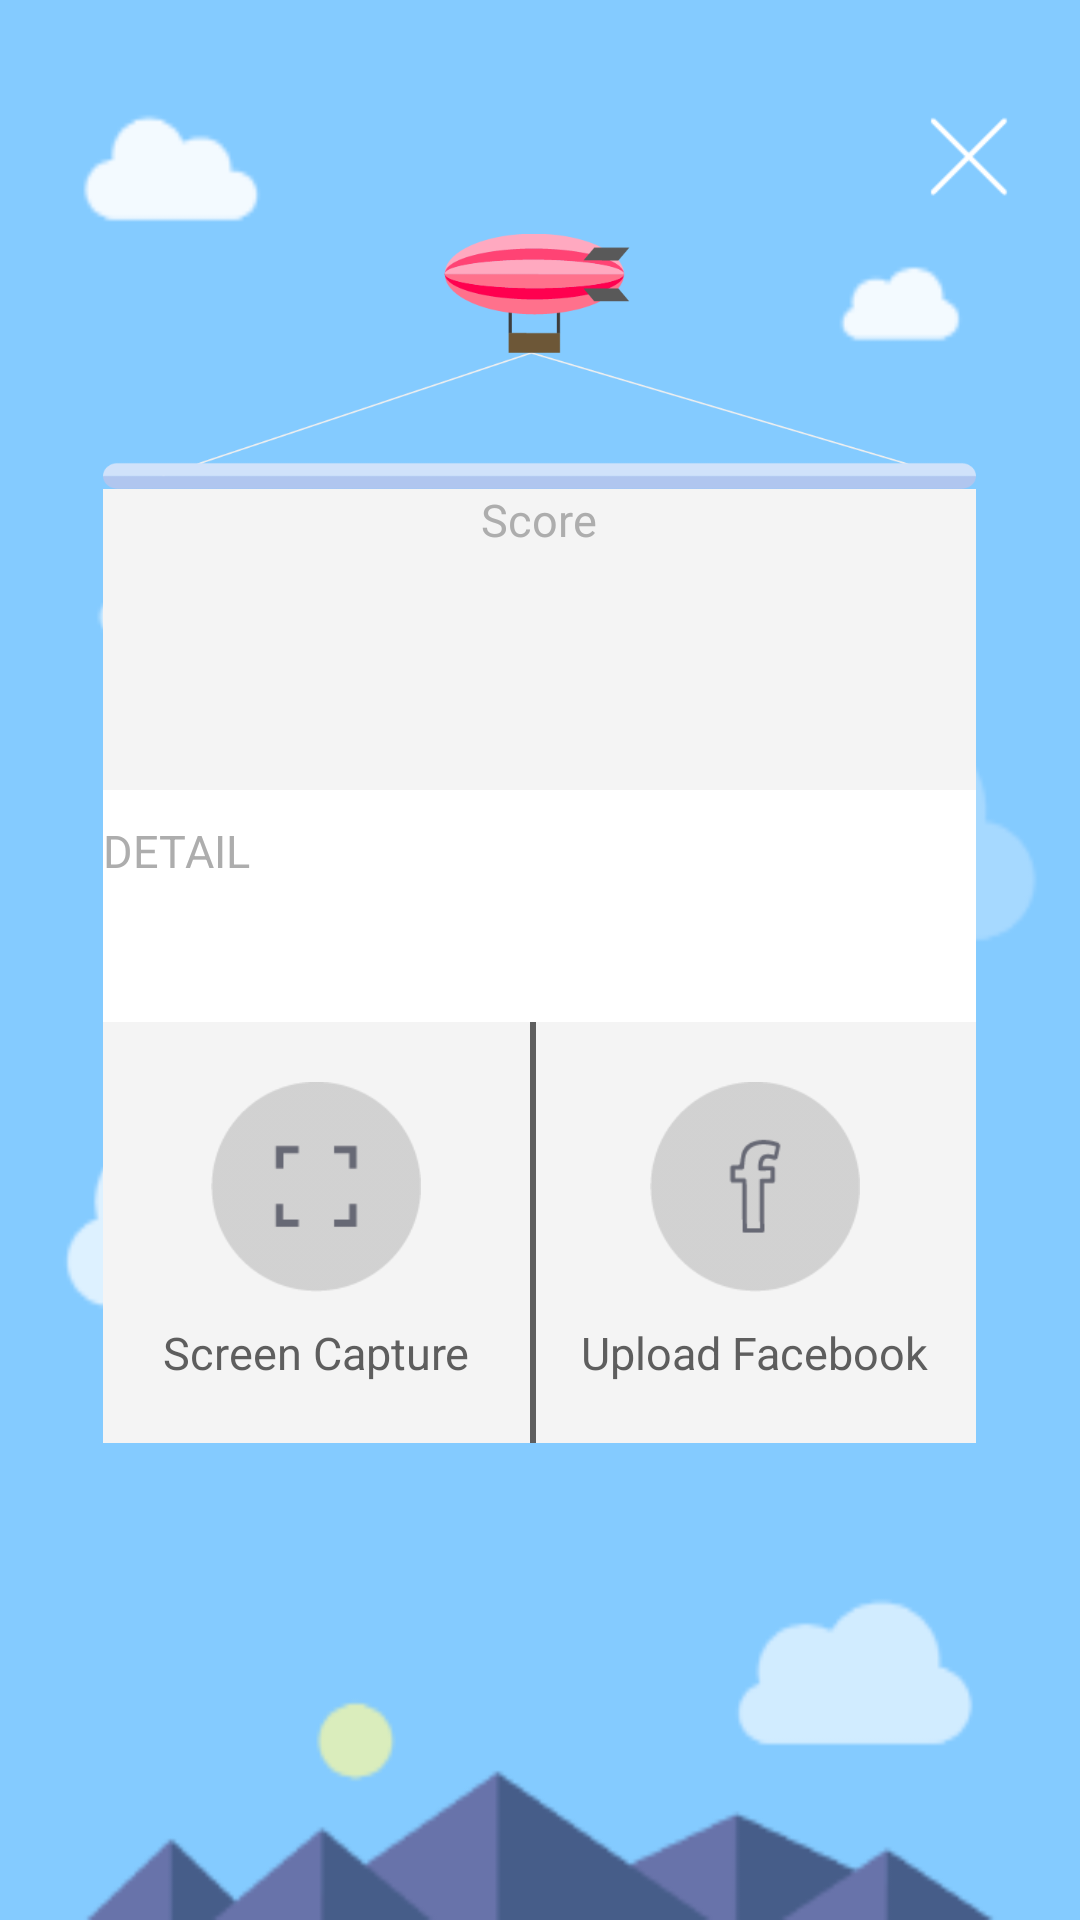

Icons on this 1080px×1920px Android screen, each with its box as (x1, y1, x2, y2):
summary close: (931, 118, 1007, 196)
